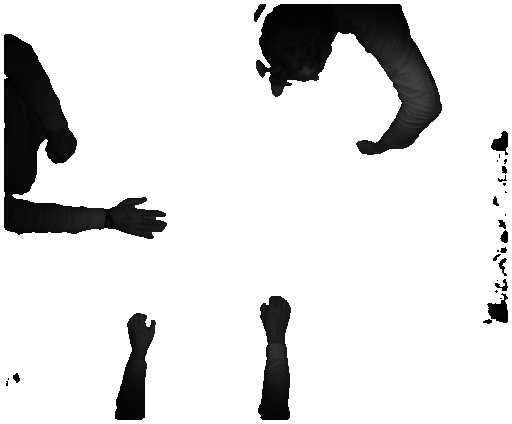fist: (46, 129, 79, 167), (352, 135, 380, 159)
hand: (112, 195, 167, 239), (256, 296, 295, 342), (126, 312, 159, 355)
